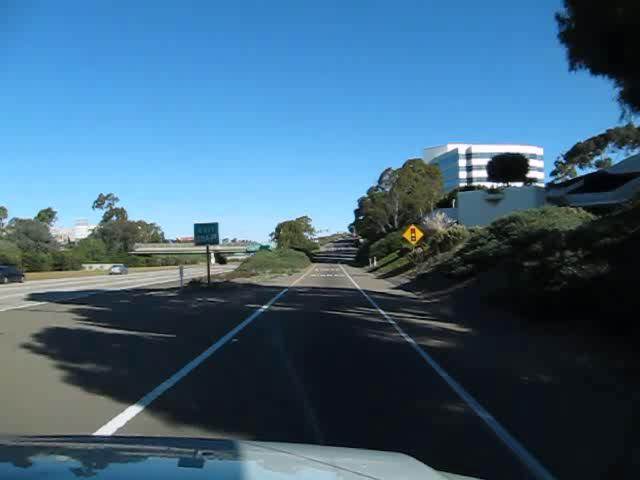signalAhead: (401, 222, 424, 246)
